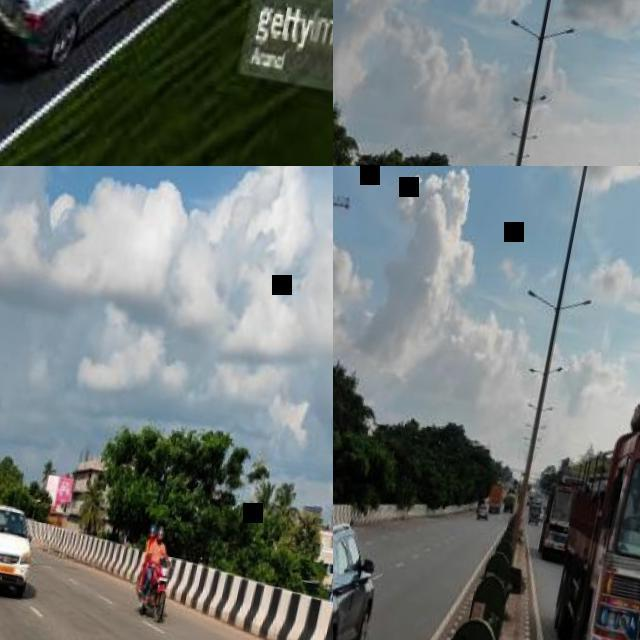car: (1, 0, 130, 79), (1, 502, 31, 594)
